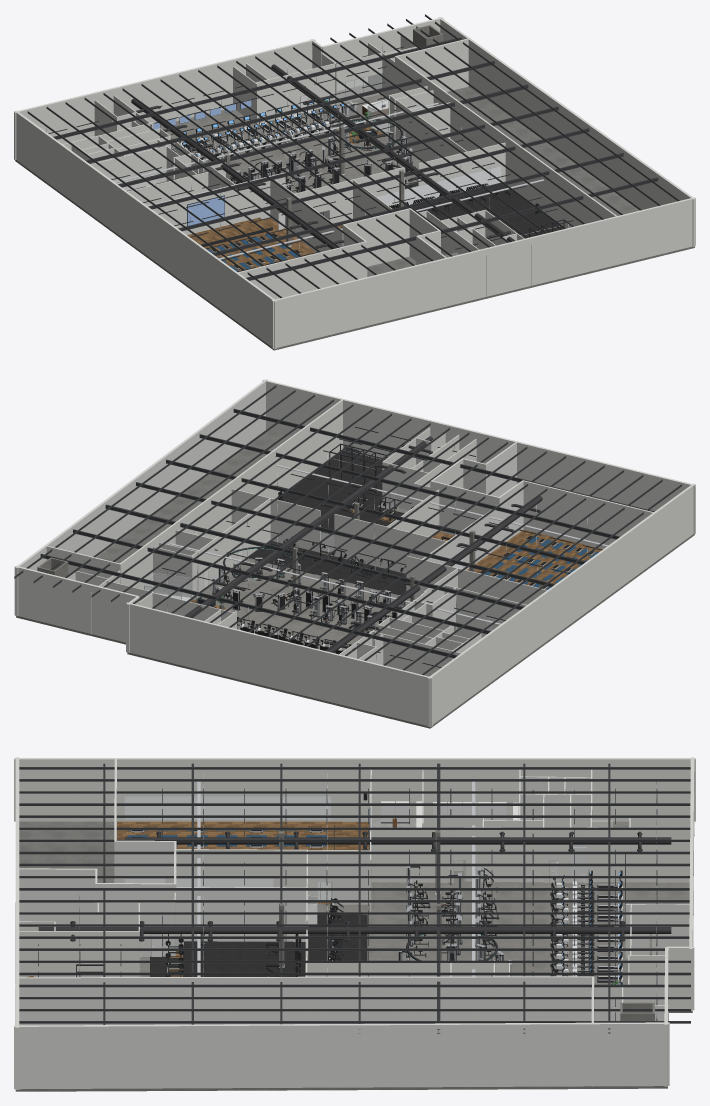
The model's file is fitx-biesdorf-komplett.glb.
The picture shows the model from 3 angles, top to bottom: view 1: azimuth 30°, elevation 25°; view 2: azimuth 150°, elevation 25°; view 3: azimuth 270°, elevation 25°; orthographic projection. The views are drawn at different scales.
Parts seen in each view (by area): view 1: Waende, Decke_Stahltraeger, Bodenplatte, Decke_Lueftung, Decke_LED_Linien, Boden_Freihantel, Boden_Ausdauer, Buehne, Boden_Zirkel, Boden_Kursraum, Spiegelwand_Freihantel, Glasfassade_Eingang (+2 smaller); view 2: Waende, Decke_Stahltraeger, Bodenplatte, Decke_Lueftung, Boden_Kursraum, Boden_Zirkel, Boden_Gerätetraining, Boden_Turnecke, Boden_Basics, Decke_LED_Linien, Boden_Freihantel, Messkabine (+3 smaller); view 3: Waende, Decke_Stahltraeger, Decke_Lueftung, Bodenplatte, Boden_Gerätetraining, Spiegelwand_Kurs_W, Boden_Ausdauer, Boden_Freihantel, Boden_Kursraum, Decke_LED_Linien, Boden_Basics, Spiegelwand_Kurs_O (+5 smaller).
Part boxes in pixels (box(x1,y1,x2,y2)): Waende: box(14, 17, 695, 348); Decke_Stahltraeger: box(27, 14, 679, 298); Bodenplatte: box(15, 86, 694, 350); Decke_Lueftung: box(114, 64, 544, 259); Decke_LED_Linien: box(46, 41, 573, 271); Boden_Freihantel: box(414, 185, 562, 237); Boden_Ausdauer: box(171, 110, 355, 164); Buehne: box(187, 195, 272, 246); Boden_Zirkel: box(297, 136, 421, 182); Boden_Kursraum: box(203, 218, 316, 271); Spiegelwand_Freihantel: box(376, 165, 501, 205); Glasfassade_Eingang: box(337, 52, 383, 104); Waende: box(14, 379, 695, 726); Decke_Stahltraeger: box(14, 385, 681, 675); Bodenplatte: box(16, 430, 694, 728); Decke_Lueftung: box(169, 436, 608, 652); Boden_Kursraum: box(467, 529, 602, 589); Boden_Zirkel: box(193, 560, 331, 624); Boden_Gerätetraining: box(270, 580, 410, 644); Boden_Turnecke: box(295, 450, 385, 506); Boden_Basics: box(250, 541, 406, 594); Decke_LED_Linien: box(162, 426, 602, 667); Boden_Freihantel: box(278, 486, 404, 554); Messkabine: box(144, 573, 191, 600); Waende: box(14, 757, 695, 1089); Decke_Stahltraeger: box(19, 763, 690, 1033); Decke_Lueftung: box(38, 781, 671, 976); Bodenplatte: box(15, 821, 694, 1091); Boden_Gerätetraining: box(373, 883, 531, 960); Spiegelwand_Kurs_W: box(124, 796, 330, 819); Boden_Ausdauer: box(531, 884, 626, 984); Boden_Freihantel: box(150, 941, 305, 976); Boden_Kursraum: box(117, 821, 369, 904); Decke_LED_Linien: box(38, 773, 657, 1020); Boden_Basics: box(308, 914, 367, 960); Spiegelwand_Kurs_O: box(124, 878, 330, 899).
Bounding box in the file's own units: 55.9 × 6.25 × 59.57.
Materials: 37 (10 with a texture image).
